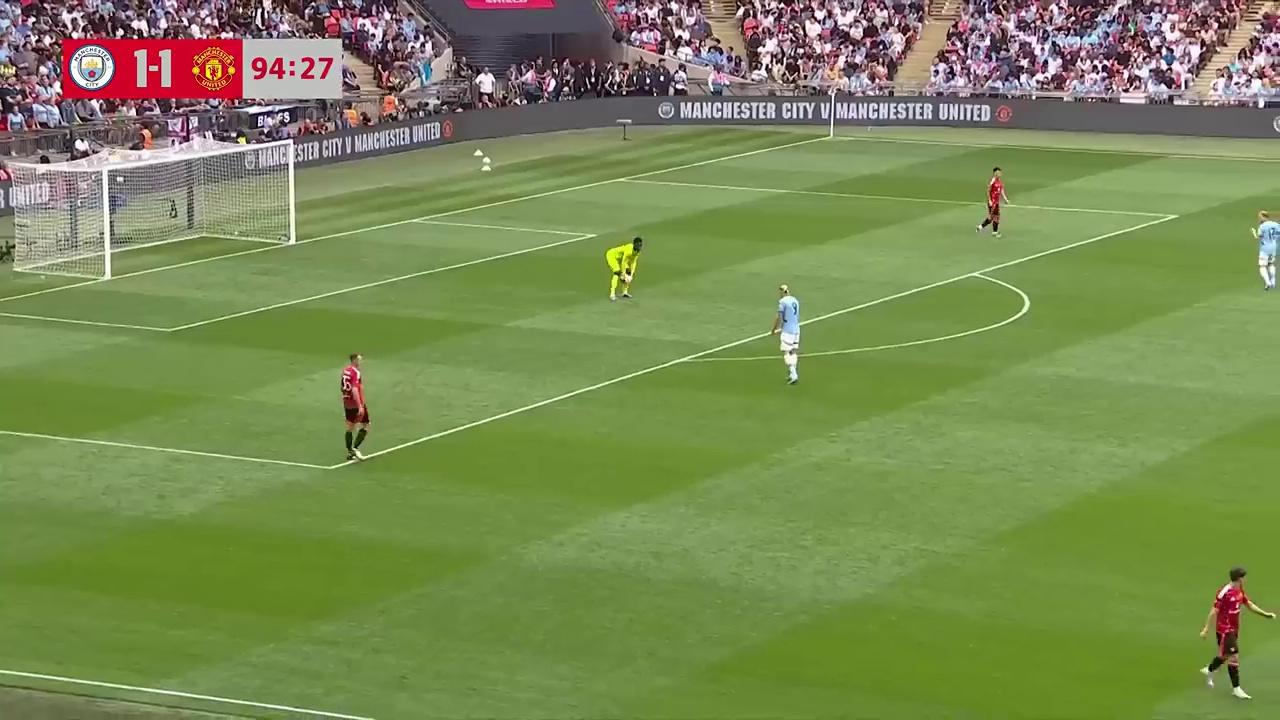player: (1198, 566, 1260, 698), (340, 352, 370, 461), (772, 278, 801, 385), (606, 237, 642, 301), (977, 167, 1008, 238), (1253, 210, 1279, 287)
